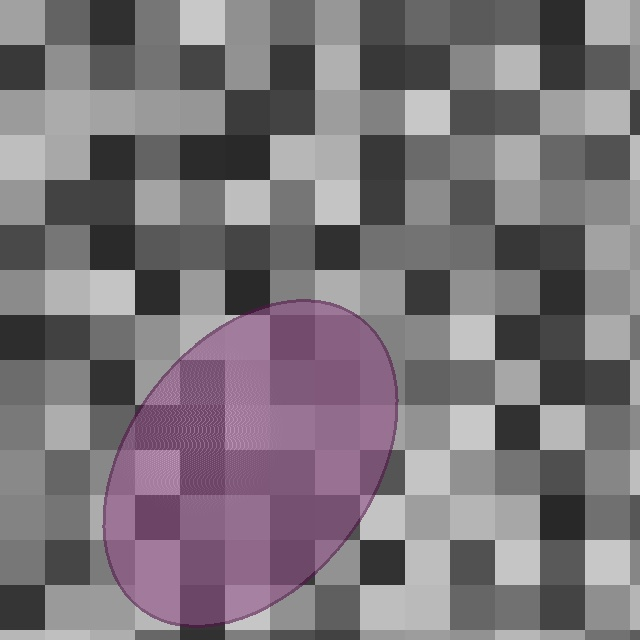lens: (104, 300, 396, 626)
